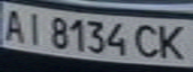1: (66, 16, 87, 52)
3: (84, 18, 109, 55)
4: (103, 19, 130, 56)
8: (45, 13, 69, 51)
A: (0, 6, 30, 43)
C: (130, 20, 163, 60)
I: (21, 9, 48, 46)
K: (154, 20, 193, 62)
